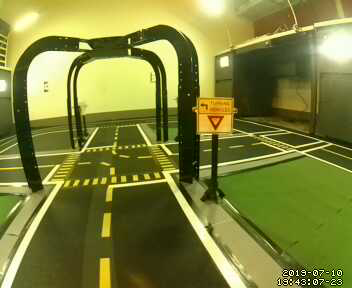Turn Yield: (197, 96, 233, 135)
